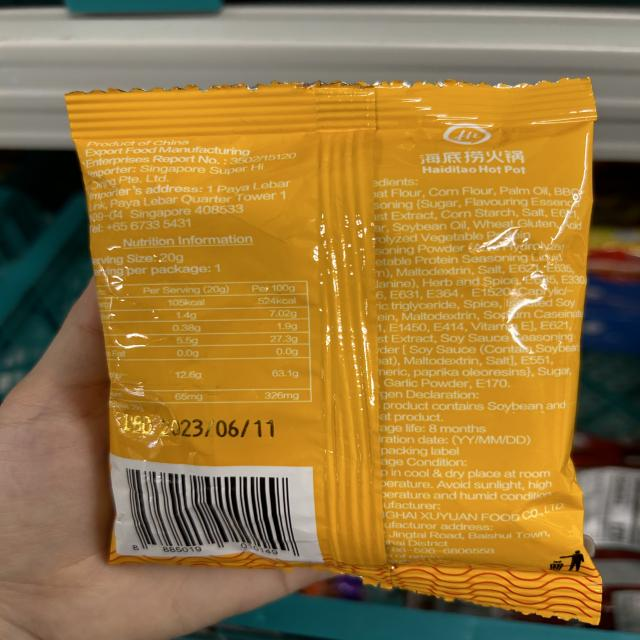object_name: (98, 103, 570, 593)
